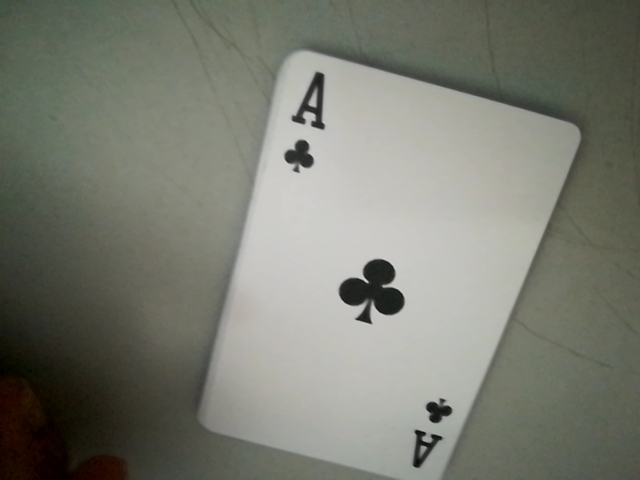mh a: (269, 60, 333, 184), (406, 392, 461, 480)
